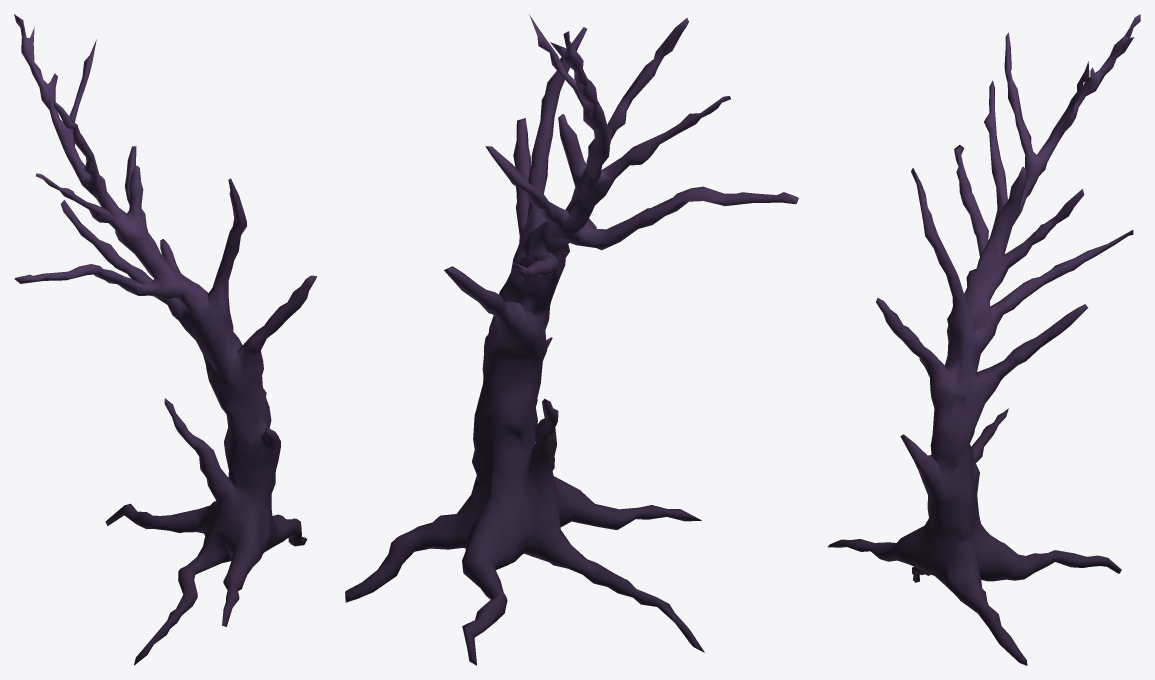
File: tree_L1.fbx
The picture shows the model from 3 angles, left to right: view 1: azimuth 30°, elevation 25°; view 2: azimuth 150°, elevation 25°; view 3: azimuth 270°, elevation 25°; orthographic projection. The views are drawn at different scales.
Visible parts, largest first — view 1: tree_L1; view 2: tree_L1; view 3: tree_L1.
Boxes of the visible parts, x1,y1,x2,y2 form: tree_L1: (14,14,316,665); tree_L1: (345,14,798,665); tree_L1: (827,14,1140,665).
Bounding box in the file's own units: 428 × 724 × 363.
